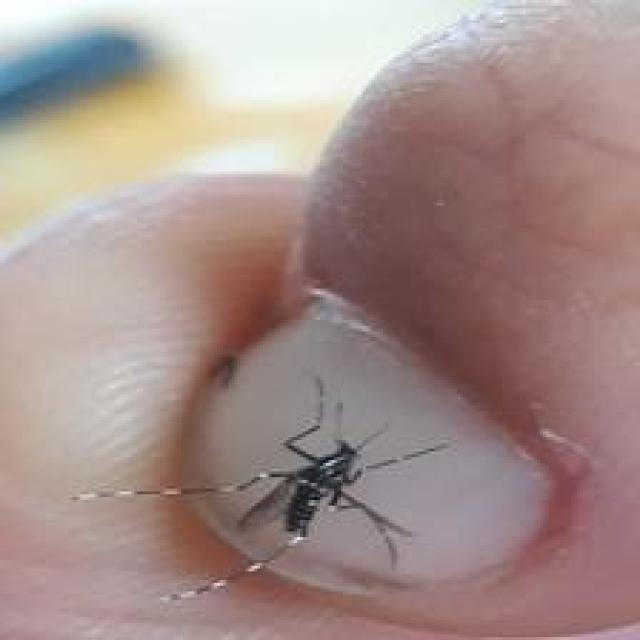Aedes albopictus: (71, 370, 452, 604)
